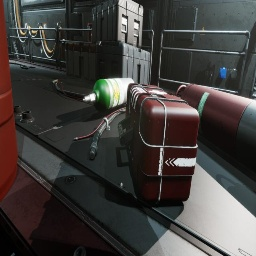0: (82, 78, 134, 113)
FirstAidBox ,: (118, 83, 200, 204)
NitrogenTank ,: (175, 84, 256, 174), (88, 24, 92, 42), (91, 22, 92, 42)
